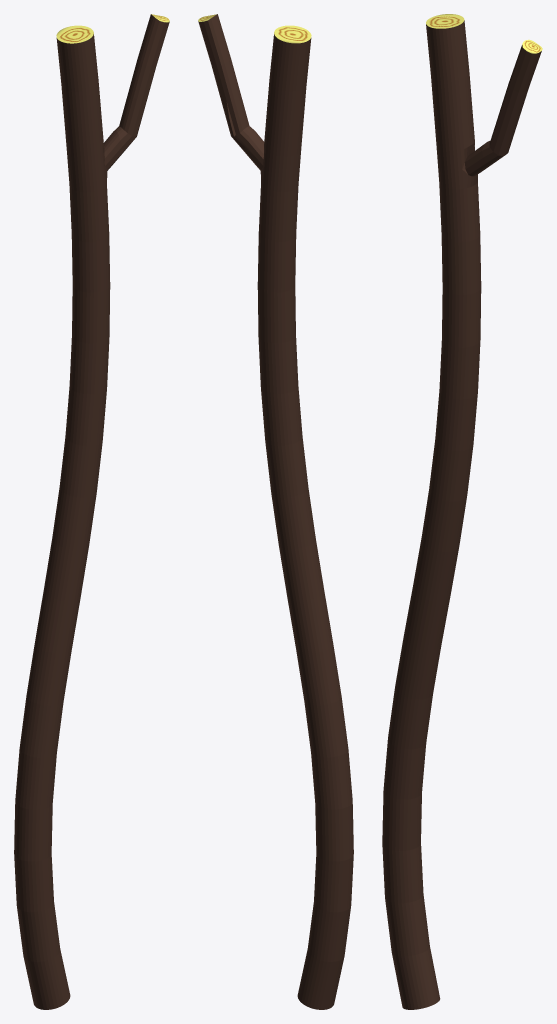
Rendered from Stick.fbx.
The picture shows the model from 3 angles, left to right: view 1: azimuth 30°, elevation 25°; view 2: azimuth 150°, elevation 25°; view 3: azimuth 330°, elevation 25°; orthographic projection. The views are drawn at different scales.
Visible parts, largest first — view 1: Stick; view 2: Stick; view 3: Stick.
Part boxes in pixels (<box>): Stick: <box>14,14,169,1009</box>; Stick: <box>198,14,353,1009</box>; Stick: <box>382,14,542,1009</box>.
Bounding box in the file's own units: 46.49 × 283 × 10.
